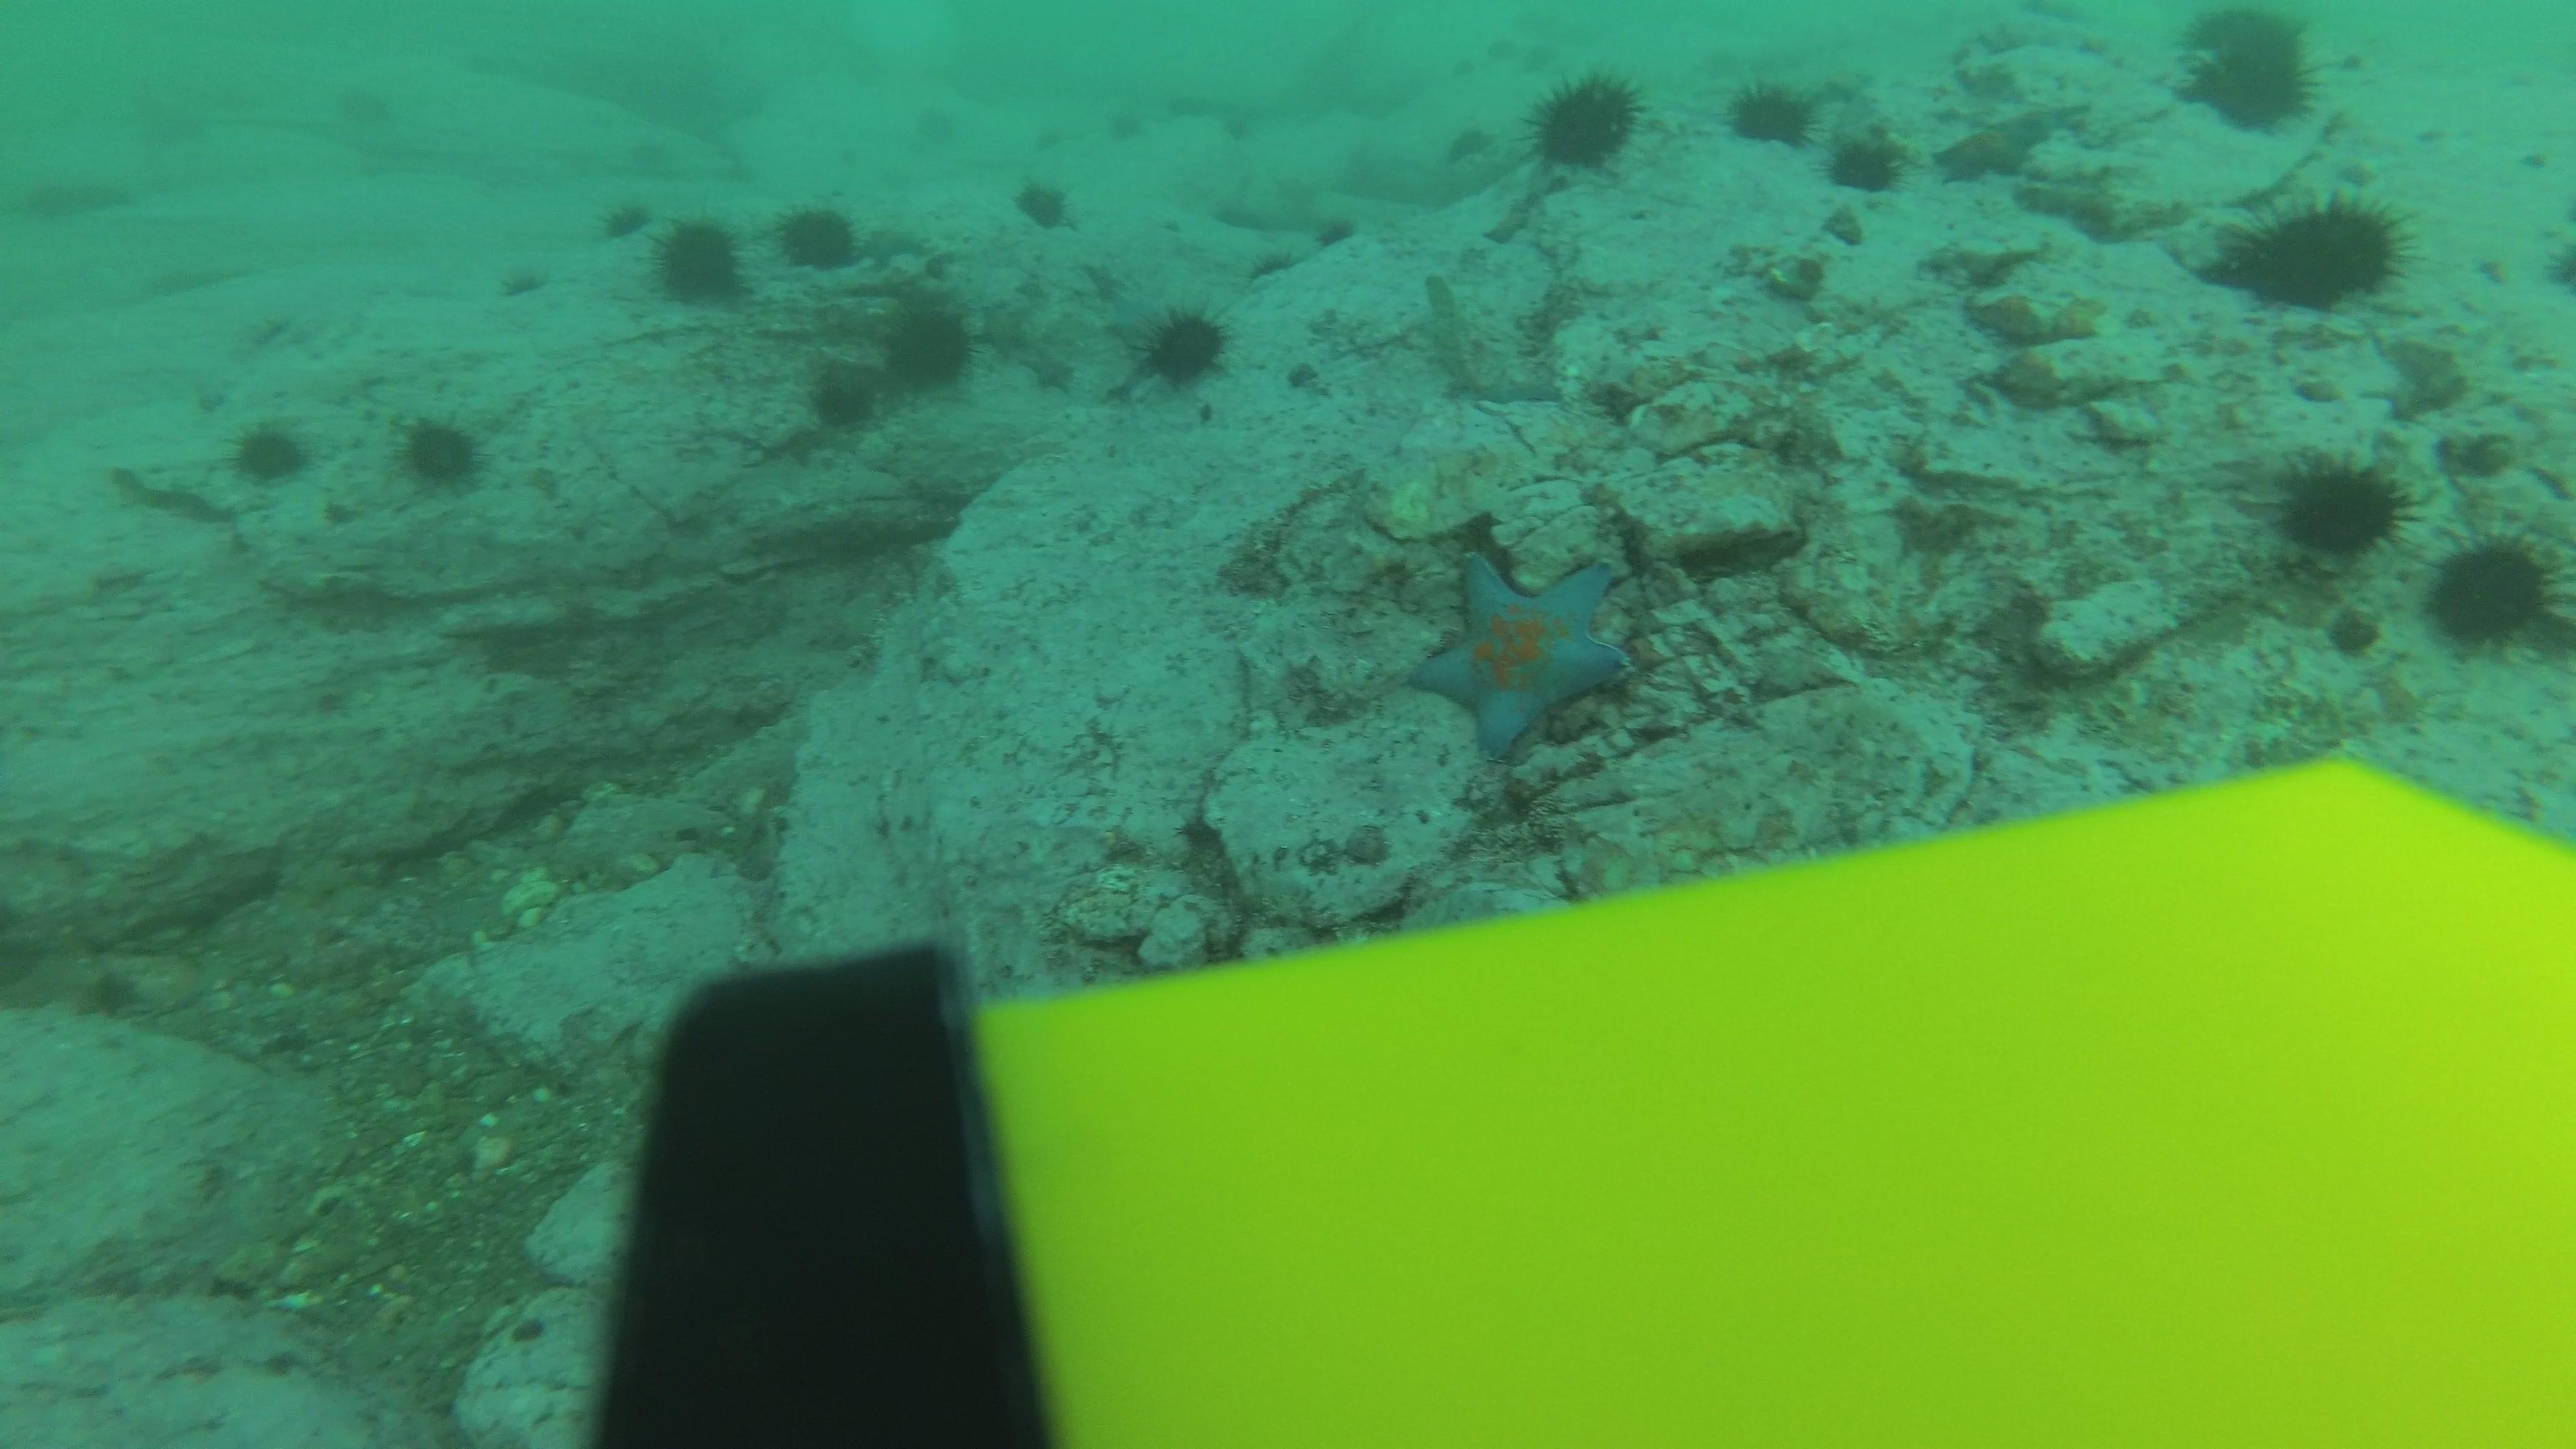echinus: (2212, 186, 2410, 315), (2173, 7, 2325, 138), (2420, 529, 2562, 655), (2270, 449, 2411, 563), (1522, 65, 1645, 177), (878, 297, 978, 396), (648, 212, 748, 310), (1132, 299, 1235, 393), (393, 409, 488, 494), (1725, 74, 1817, 152), (775, 196, 863, 274), (225, 414, 313, 488), (1824, 124, 1907, 196), (805, 361, 885, 433), (1445, 124, 1506, 184), (1214, 106, 1274, 166), (897, 92, 957, 152), (1016, 103, 1077, 161), (1014, 173, 1074, 232), (1247, 242, 1307, 301), (1293, 209, 1353, 267), (1171, 80, 1231, 138), (1097, 94, 1157, 152), (725, 76, 786, 134), (619, 119, 679, 177), (600, 191, 660, 249)
holothurian: (2006, 172, 2118, 241)
starfish: (1405, 547, 1635, 763), (1928, 96, 2089, 186), (1454, 357, 1566, 414), (856, 218, 929, 269), (1024, 347, 1077, 396)
